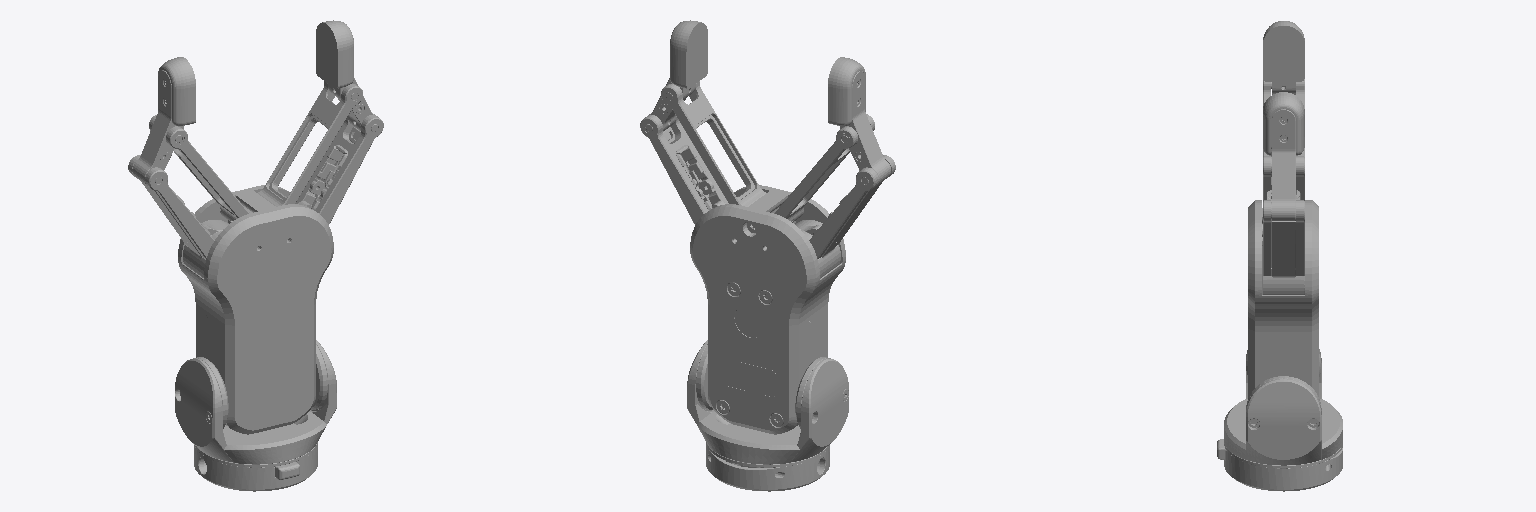
The robot description file, URDF, robot "rg6":
<?xml version="1.0" encoding="utf-8"?>

<robot name="rg6">

<material name="silver">
  <color rgba="0.700 0.700 0.700 1.000"/>
</material>

<link name="rg6_gripper_base_link">
  <inertial>
    <origin xyz="-0.00030179080386336256 -0.00047670368310389217 0.020678912231015475" rpy="0 0 0"/>
    <mass value="0.7592453895368185"/>
    <inertia ixx="0.000452" iyy="0.000705" izz="0.000689" ixy="-1e-06" iyz="-5e-06" ixz="-0.0"/>
  </inertial>
  <visual>
    <origin xyz="0 0 0" rpy="0 0 0"/>
    <geometry>
      <mesh filename="rg6_gripper/meshes/base_link.stl" scale="0.001 0.001 0.001"/>
    </geometry>
    <material name="silver"/>
  </visual>
  <collision>
    <origin xyz="0 0 0" rpy="0 0 0"/>
    <geometry>
      <mesh filename="rg6_gripper/meshes/base_link.stl" scale="0.001 0.001 0.001"/>
    </geometry>
  </collision>
</link>

<link name="g_main">
  <inertial>
    <origin xyz="0.031843851343412694 -6.562152034605188e-05 0.0402561266087614" rpy="0 0 0"/>
    <mass value="2.1746665575894286"/>
    <inertia ixx="0.003297" iyy="0.00361" izz="0.00105" ixy="-1e-06" iyz="5e-06" ixz="3e-06"/>
  </inertial>
  <visual>
    <origin xyz="0.031849 -1e-06 -0.04953" rpy="0 0 0"/>
    <geometry>
      <mesh filename="rg6_gripper/meshes/g_main.stl" scale="0.001 0.001 0.001"/>
    </geometry>
    <material name="silver"/>
  </visual>
  <collision>
    <origin xyz="0.031849 -1e-06 -0.04953" rpy="0 0 0"/>
    <geometry>
      <mesh filename="rg6_gripper/meshes/g_main.stl" scale="0.001 0.001 0.001"/>
    </geometry>
  </collision>
</link>

<link name="l_out">
  <inertial>
    <origin xyz="0.010442859349590227 -0.012799625869821 0.012792983853972317" rpy="0 0 0"/>
    <mass value="0.24195762212403002"/>
    <inertia ixx="0.00011" iyy="0.00016" izz="7.6e-05" ixy="0.0" iyz="0.0" ixz="-6.6e-05"/>
  </inertial>
  <visual>
    <origin xyz="-0.023851 -0.012801 -0.13453" rpy="0 0 0"/>
    <geometry>
      <mesh filename="rg6_gripper/meshes/l_out.stl" scale="0.001 0.001 0.001"/>
    </geometry>
    <material name="silver"/>
  </visual>
  <collision>
    <origin xyz="-0.023851 -0.012801 -0.13453" rpy="0 0 0"/>
    <geometry>
      <mesh filename="rg6_gripper/meshes/l_out.stl" scale="0.001 0.001 0.001"/>
    </geometry>
  </collision>
</link>

<link name="r_out">
  <inertial>
    <origin xyz="-0.010522665986501832 -0.012799489922871823 0.012809246687502496" rpy="0 0 0"/>
    <mass value="0.24195762035711757"/>
    <inertia ixx="0.00011" iyy="0.00016" izz="7.6e-05" ixy="0.0" iyz="-0.0" ixz="6.5e-05"/>
  </inertial>
  <visual>
    <origin xyz="0.023749 -0.012801 -0.13453" rpy="0 0 0"/>
    <geometry>
      <mesh filename="rg6_gripper/meshes/r_out.stl" scale="0.001 0.001 0.001"/>
    </geometry>
    <material name="silver"/>
  </visual>
  <collision>
    <origin xyz="0.023749 -0.012801 -0.13453" rpy="0 0 0"/>
    <geometry>
      <mesh filename="rg6_gripper/meshes/r_out.stl" scale="0.001 0.001 0.001"/>
    </geometry>
  </collision>
</link>

<link name="l_tip">
  <inertial>
    <origin xyz="-0.01379426979129901 0.012430443916766657 0.03303967984911002" rpy="0 0 0"/>
    <mass value="0.13426652162693567"/>
    <inertia ixx="5.6e-05" iyy="5.9e-05" izz="1.3e-05" ixy="-0.0" iyz="-0.0" ixz="1.6e-05"/>
  </inertial>
  <visual>
    <origin xyz="-0.071235 0.012499 -0.19895" rpy="0 0 0"/>
    <geometry>
      <mesh filename="rg6_gripper/meshes/l_tip.stl" scale="0.001 0.001 0.001"/>
    </geometry>
    <material name="silver"/>
  </visual>
  <collision>
    <origin xyz="-0.071235 0.012499 -0.19895" rpy="0 0 0"/>
    <geometry>
      <mesh filename="rg6_gripper/meshes/l_tip.stl" scale="0.001 0.001 0.001"/>
    </geometry>
  </collision>
</link>

<link name="r_tip">
  <inertial>
    <origin xyz="0.01379460286375201 0.012599371946431372 0.03303919214417522" rpy="0 0 0"/>
    <mass value="0.13426652162693592"/>
    <inertia ixx="5.6e-05" iyy="5.9e-05" izz="1.3e-05" ixy="-0.0" iyz="-0.0" ixz="-1.6e-05"/>
  </inertial>
  <visual>
    <origin xyz="0.071133 0.012499 -0.199024" rpy="0 0 0"/>
    <geometry>
      <mesh filename="rg6_gripper/meshes/r_tip.stl" scale="0.001 0.001 0.001"/>
    </geometry>
    <material name="silver"/>
  </visual>
  <collision>
    <origin xyz="0.071133 0.012499 -0.199024" rpy="0 0 0"/>
    <geometry>
      <mesh filename="rg6_gripper/meshes/r_tip.stl" scale="0.001 0.001 0.001"/>
    </geometry>
  </collision>
</link>

<link name="l_inner">
  <inertial>
    <origin xyz="0.021220873634115123 -0.00019955790008889003 0.02884270588361451" rpy="0 0 0"/>
    <mass value="0.0502402669834145"/>
    <inertia ixx="3.4e-05" iyy="4.6e-05" izz="2e-05" ixy="-0.0" iyz="-0.0" ixz="-2.2e-05"/>
  </inertial>
  <visual>
    <origin xyz="-0.010551 -0.000101 -0.15763" rpy="0 0 0"/>
    <geometry>
      <mesh filename="rg6_gripper/meshes/l_inner.stl" scale="0.001 0.001 0.001"/>
    </geometry>
    <material name="silver"/>
  </visual>
  <collision>
    <origin xyz="-0.010551 -0.000101 -0.15763" rpy="0 0 0"/>
    <geometry>
      <mesh filename="rg6_gripper/meshes/l_inner.stl" scale="0.001 0.001 0.001"/>
    </geometry>
  </collision>
</link>

<link name="r_inner">
  <inertial>
    <origin xyz="-0.021275767636285234 -0.00019955790008339296 0.02887567083082221" rpy="0 0 0"/>
    <mass value="0.05024026698344974"/>
    <inertia ixx="3.4e-05" iyy="4.6e-05" izz="2e-05" ixy="-0.0" iyz="0.0" ixz="2.2e-05"/>
  </inertial>
  <visual>
    <origin xyz="0.010449 -0.000101 -0.15763" rpy="0 0 0"/>
    <geometry>
      <mesh filename="rg6_gripper/meshes/r_inner.stl" scale="0.001 0.001 0.001"/>
    </geometry>
    <material name="silver"/>
  </visual>
  <collision>
    <origin xyz="0.010449 -0.000101 -0.15763" rpy="0 0 0"/>
    <geometry>
      <mesh filename="rg6_gripper/meshes/r_inner.stl" scale="0.001 0.001 0.001"/>
    </geometry>
  </collision>
</link>

<joint name="g_main" type="fixed">
  <origin xyz="-0.031849 1e-06 0.04953" rpy="0 0 0"/>
  <parent link="rg6_gripper_base_link"/>
  <child link="g_main"/>

</joint>

<joint name="l_out" type="revolute">
  <origin xyz="0.0557 0.0128 0.085" rpy="0 0 0"/>
  <parent link="g_main"/>
  <child link="l_out"/>
  <axis xyz="-0.0 1.0 0.0"/>
  <limit upper="0.610865" lower="-0.523599" effort="100" velocity="100"/>
</joint>

<joint name="r_out" type="revolute">
  <origin xyz="0.0081 0.0128 0.085" rpy="0 0 0"/>
  <parent link="g_main"/>
  <child link="r_out"/>
  <axis xyz="-0.0 1.0 0.0"/>
  <limit upper="0.523599" lower="-0.610865" effort="100" velocity="100"/>
  <mimic joint="l_out" multiplier="-1"/>
</joint>

<joint name="l_tip" type="revolute">
  <origin xyz="0.047384 -0.0253 0.06442" rpy="0 0 0"/>
  <parent link="l_out"/>
  <child link="l_tip"/>
  <axis xyz="0.0 -1.0 0.0"/>
  <limit upper="0.610865" lower="-0.523599" effort="100" velocity="100"/>
  <mimic joint="l_out" multiplier="1"/>
</joint>

<joint name="r_tip" type="revolute">
  <origin xyz="-0.047384 -0.0253 0.064494" rpy="0 0 0"/>
  <parent link="r_out"/>
  <child link="r_tip"/>
  <axis xyz="0.0 -1.0 0.0"/>
  <limit upper="0.523599" lower="-0.610865" effort="100" velocity="100"/>
  <mimic joint="l_out" multiplier="-1"/>
</joint>

<joint name="l_passive" type="revolute">
  <origin xyz="0.0424 0.0001 0.1081" rpy="0 0 0"/>
  <parent link="g_main"/>
  <child link="l_inner"/>
  <axis xyz="0.0 -1.0 0.0"/>
  <limit upper="0.523599" lower="-0.610865" effort="100" velocity="100"/>
  <mimic joint="l_out" multiplier="-1"/>
</joint>

<joint name="r_passive" type="revolute">
  <origin xyz="0.0214 0.0001 0.1081" rpy="0 0 0"/>
  <parent link="g_main"/>
  <child link="r_inner"/>
  <axis xyz="-0.0 1.0 -0.0"/>
  <limit upper="0.523599" lower="-0.610865" effort="100" velocity="100"/>
  <mimic joint="l_out" multiplier="-1"/>
</joint>

<link name="hand_tcp" />
<joint name="hand_tcp_joint" type="fixed">
  <origin xyz="0.036 0 0.21" rpy="0 0 0" />
  <parent link="g_main" />
  <child link="hand_tcp" />
  <axis xyz="-0.0 1.0 -0.0"/>
</joint>

</robot>

--- What the picture shows (computed from the rendered views, not written in the file) ---
3 views of the same robot in one strip: view 1: azimuth 30°, elevation 25°; view 2: azimuth 150°, elevation 25°; view 3: azimuth 270°, elevation 25° (orthographic).
Model rg6 with 9 links and 8 joints (6 revolute, 2 fixed), rooted at rg6_gripper_base_link, posed all joints at 0.
Visible links, largest first — view 1: g_main, rg6_gripper_base_link, r_tip, l_out, l_inner, l_tip, r_out, r_inner; view 2: g_main, rg6_gripper_base_link, r_tip, l_out, l_inner, l_tip, r_out, r_inner; view 3: rg6_gripper_base_link, g_main, l_tip, l_out, r_tip, l_inner.
Boxes of the visible links, bbox=[...] form: g_main: bbox=[178, 185, 333, 434]; rg6_gripper_base_link: bbox=[175, 340, 336, 491]; r_tip: bbox=[132, 57, 195, 186]; l_out: bbox=[295, 115, 383, 224]; l_inner: bbox=[258, 81, 362, 206]; l_tip: bbox=[316, 20, 379, 133]; r_out: bbox=[128, 155, 228, 277]; r_inner: bbox=[149, 115, 252, 222]; g_main: bbox=[690, 185, 845, 434]; rg6_gripper_base_link: bbox=[687, 340, 848, 491]; r_tip: bbox=[828, 57, 890, 186]; l_out: bbox=[640, 115, 728, 224]; l_inner: bbox=[661, 81, 765, 206]; l_tip: bbox=[644, 20, 707, 133]; r_out: bbox=[795, 155, 895, 277]; r_inner: bbox=[771, 114, 874, 222]; rg6_gripper_base_link: bbox=[1217, 349, 1342, 491]; g_main: bbox=[1248, 200, 1318, 397]; l_tip: bbox=[1263, 92, 1304, 220]; l_out: bbox=[1263, 200, 1304, 294]; r_tip: bbox=[1263, 21, 1304, 94]; l_inner: bbox=[1263, 156, 1304, 200].
Size in the robot's own frame: 0.155 by 0.0755 by 0.2682 metres.
8 mesh visuals loaded from 8 distinct referenced files (8 binary STL).
